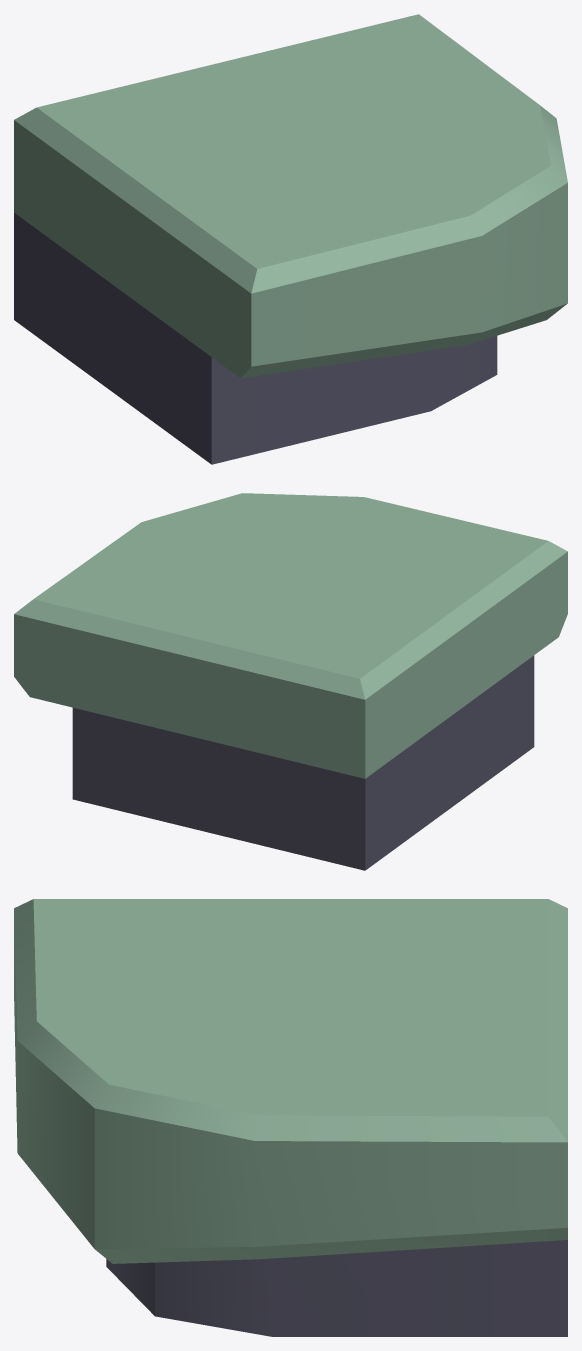
File: bottomRTile.fbx
The picture shows the model from 3 angles, top to bottom: view 1: azimuth 30°, elevation 25°; view 2: azimuth 150°, elevation 25°; view 3: azimuth 270°, elevation 25°; orthographic projection. The views are drawn at different scales.
Visible parts, largest first — view 1: brTile; view 2: brTile; view 3: brTile.
Boxes of the visible parts, x1,y1,x2,y2 form: brTile: [14, 14, 567, 464]; brTile: [14, 493, 567, 870]; brTile: [14, 899, 567, 1336].
Bounding box in the file's own units: 60 × 30 × 60.
